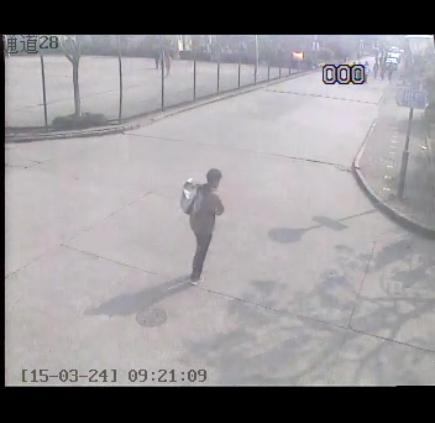person: (176, 168, 227, 289)
